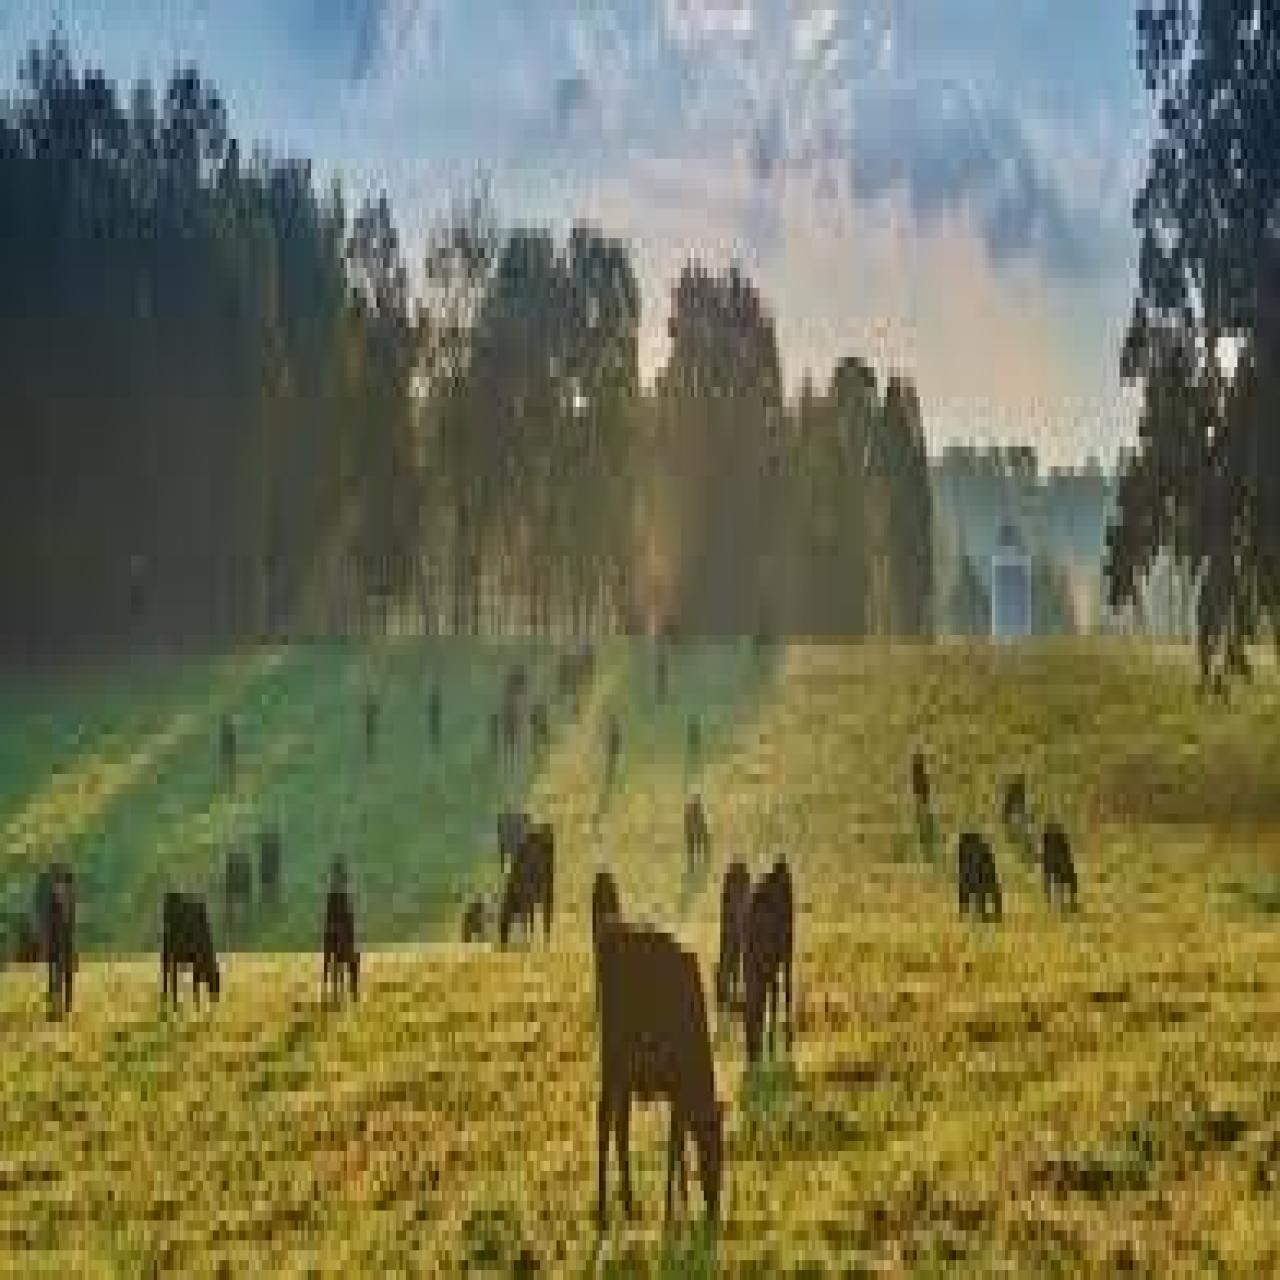cow: (590, 907, 734, 1255), (735, 869, 794, 1087), (162, 888, 222, 1027), (498, 824, 553, 953), (321, 869, 360, 1017), (38, 853, 74, 1012), (956, 829, 1005, 938), (1040, 824, 1078, 933), (225, 838, 251, 918), (688, 789, 714, 869), (1005, 764, 1032, 833), (257, 833, 280, 903)
